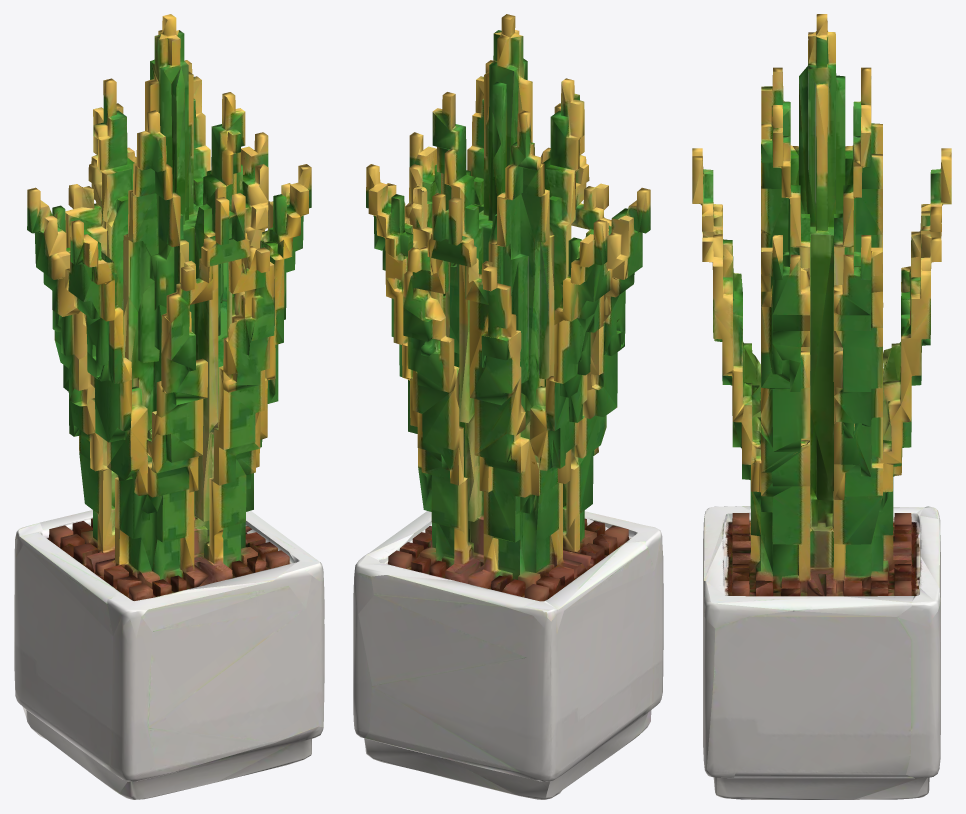
Rendered from snake_plant.glb.
The picture shows the model from 3 angles, left to right: view 1: azimuth 30°, elevation 25°; view 2: azimuth 150°, elevation 25°; view 3: azimuth 270°, elevation 25°; orthographic projection.
Bounding box in the file's own units: 0.6794 × 2 × 0.6358.
Materials: 1 (1 with a texture image).
